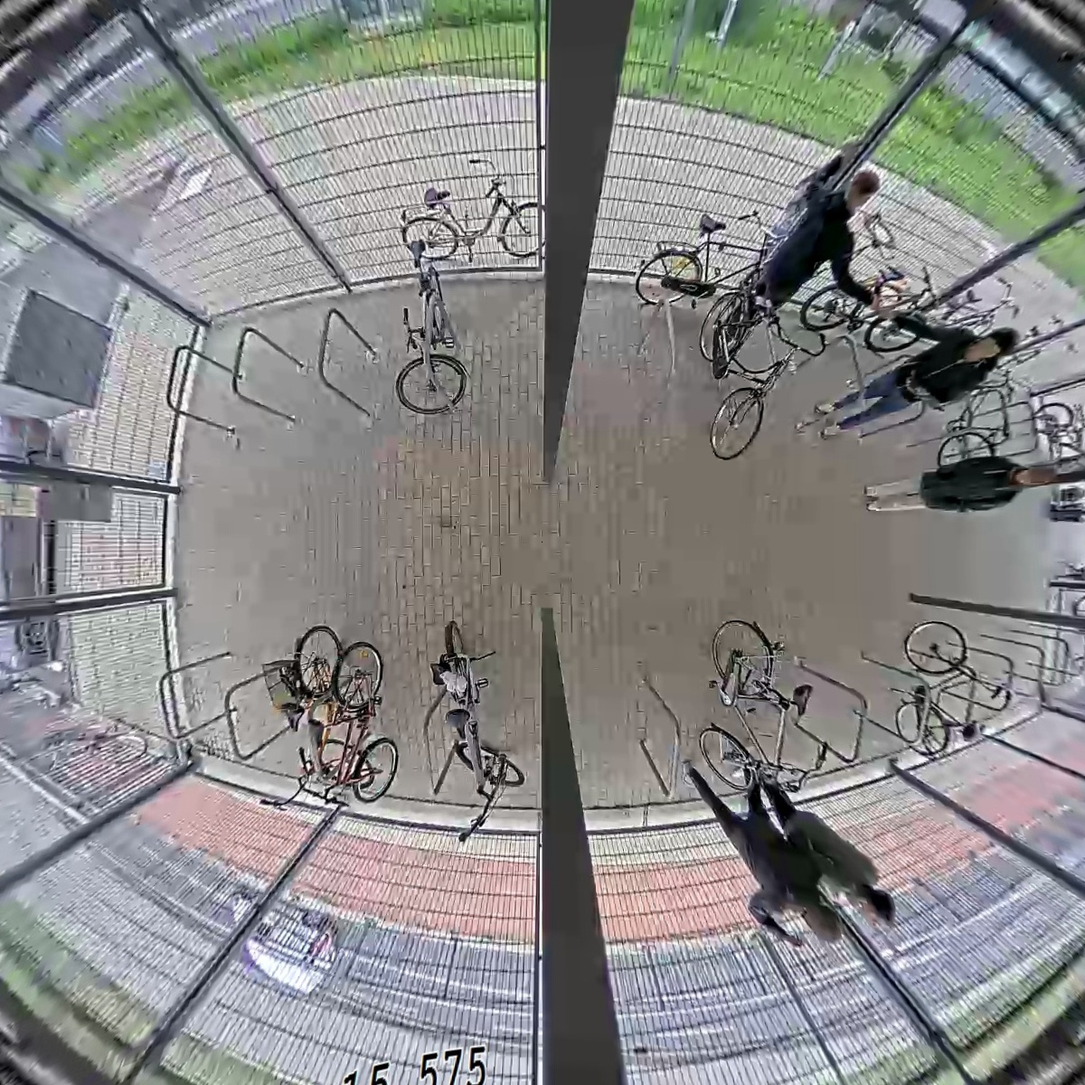bicylce: (692, 270, 833, 464), (252, 614, 380, 819), (698, 618, 812, 805), (889, 607, 1019, 765), (630, 205, 797, 323), (428, 615, 527, 814), (294, 634, 401, 811), (386, 235, 477, 420), (797, 264, 951, 355)
saddle: (782, 680, 815, 720), (400, 231, 433, 270), (439, 706, 475, 741), (687, 211, 736, 236), (277, 700, 303, 737), (302, 719, 327, 753), (875, 260, 905, 287), (750, 294, 777, 321), (959, 720, 985, 743), (999, 418, 1015, 440)
